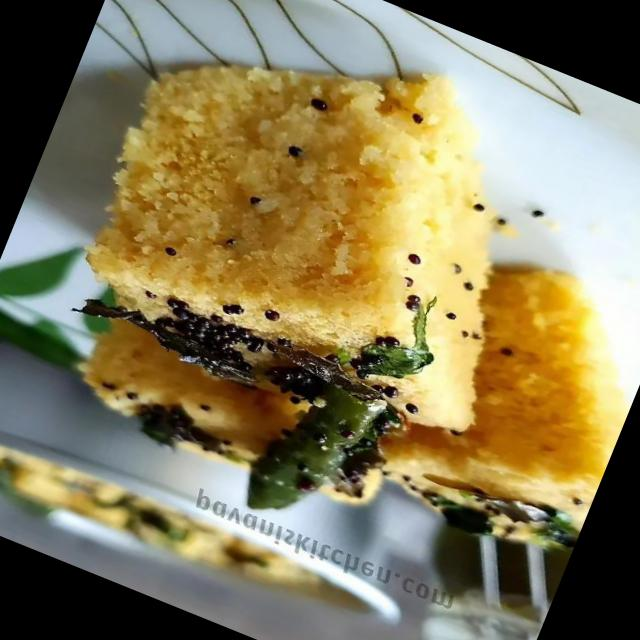dhokla: (40, 11, 640, 596)
